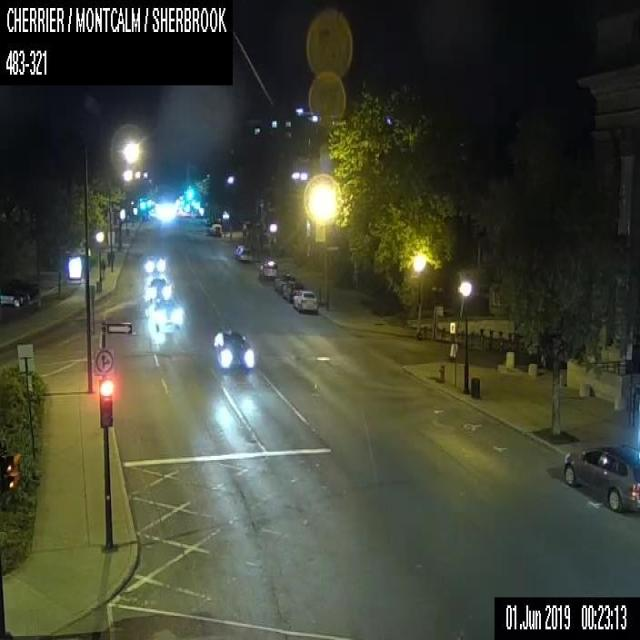pedestrian: (100, 258, 105, 278), (106, 250, 109, 265)
vehicle: (563, 444, 639, 511), (212, 328, 254, 368), (154, 298, 182, 330), (293, 288, 317, 314), (146, 276, 170, 302), (0, 285, 25, 307), (282, 280, 303, 301), (274, 272, 294, 293), (145, 253, 165, 274), (258, 259, 276, 279), (234, 244, 252, 261), (208, 222, 221, 236)
